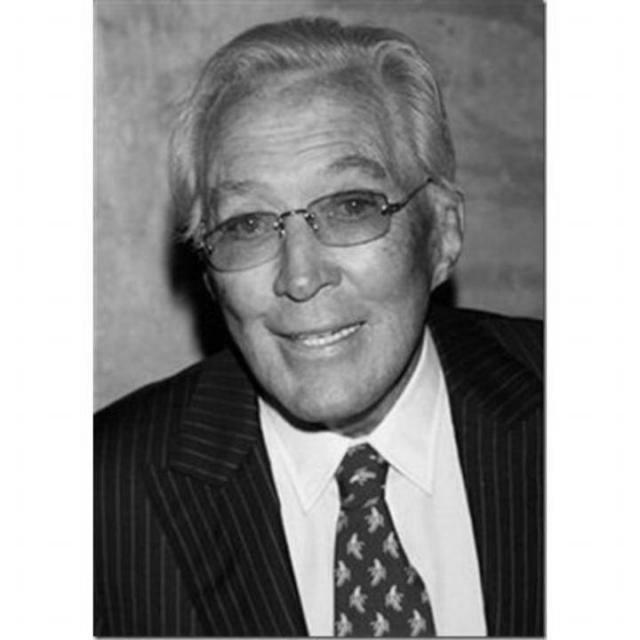real: (177, 81, 478, 442)
